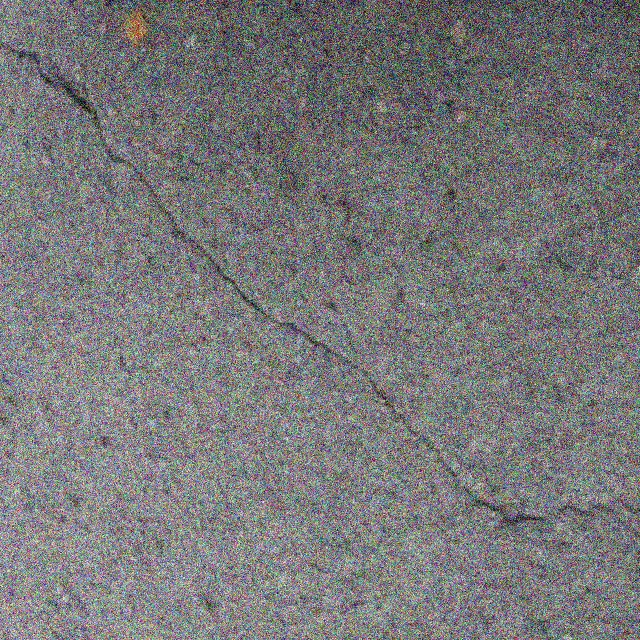SurfaceCrack: (0, 16, 640, 540)
